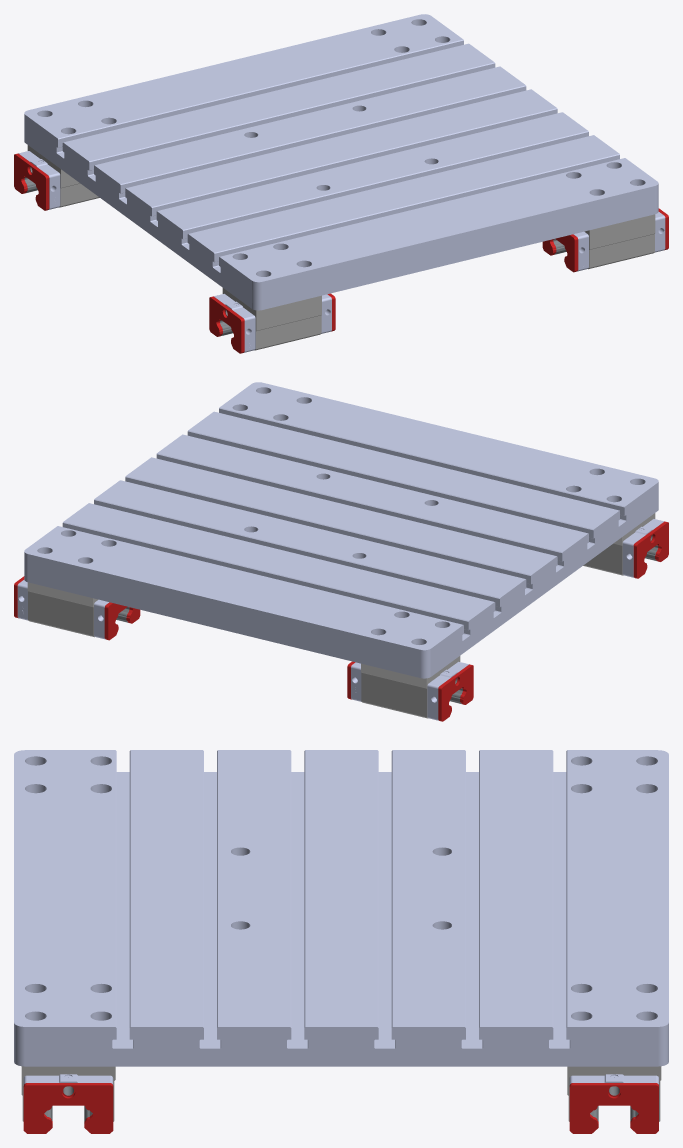
Rendered from Y_Axis.fbx.
3 renders of one model, top to bottom at view 1: azimuth 30°, elevation 25°; view 2: azimuth 150°, elevation 25°; view 3: azimuth 270°, elevation 25°, orthographic. The views are drawn at different scales.
Parts seen in each view (by area): view 1: stitch_result_stitch all (×4); view 2: stitch_result_stitch all (×4); view 3: stitch_result_stitch all (×3).
Part boxes in pixels (x1,y1,x2,y2): stitch_result_stitch all (×4): (14, 14, 668, 353); stitch_result_stitch all (×4): (14, 382, 668, 721); stitch_result_stitch all (×3): (14, 750, 668, 1133).
Size of the model in its own units: 24.9 by 4.65 by 23.62.
